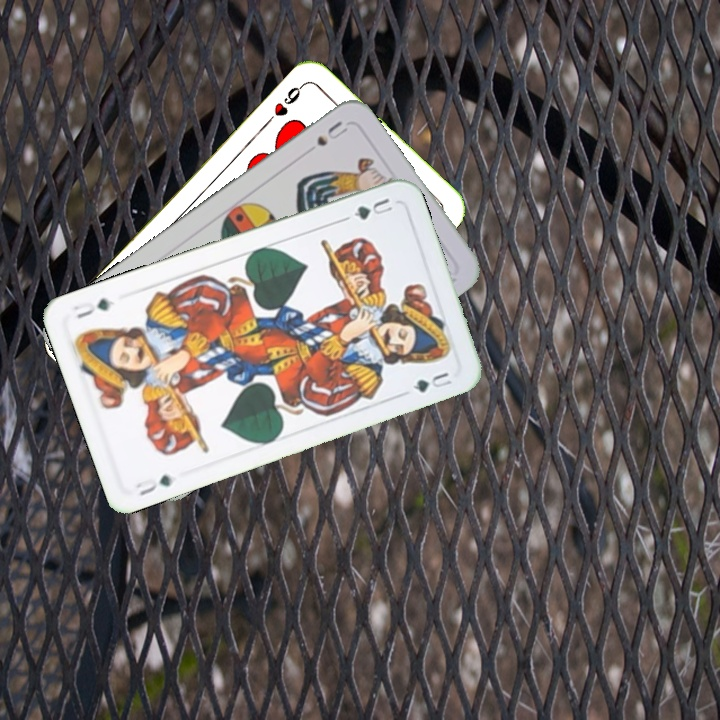GU: (349, 193, 396, 223), (131, 470, 176, 498)
H9: (262, 79, 307, 127)
SU: (312, 117, 351, 149)
